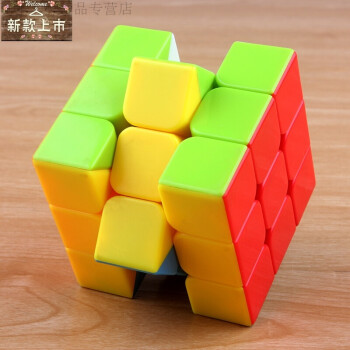cube: (27, 21, 325, 335)
